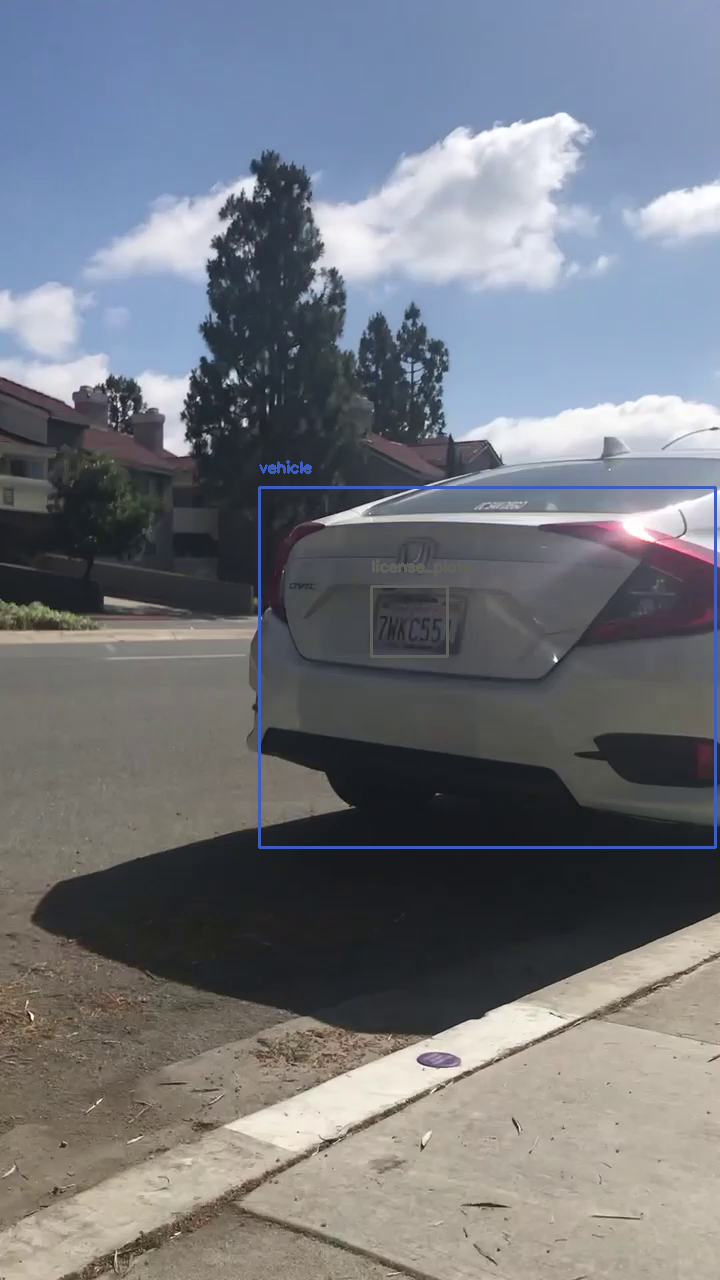license_plate: (371, 586, 447, 656)
vehicle: (259, 487, 715, 847)
